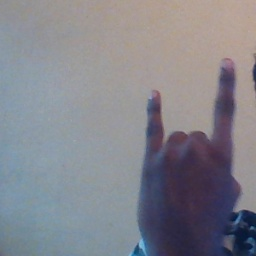V: (134, 55, 243, 248)
